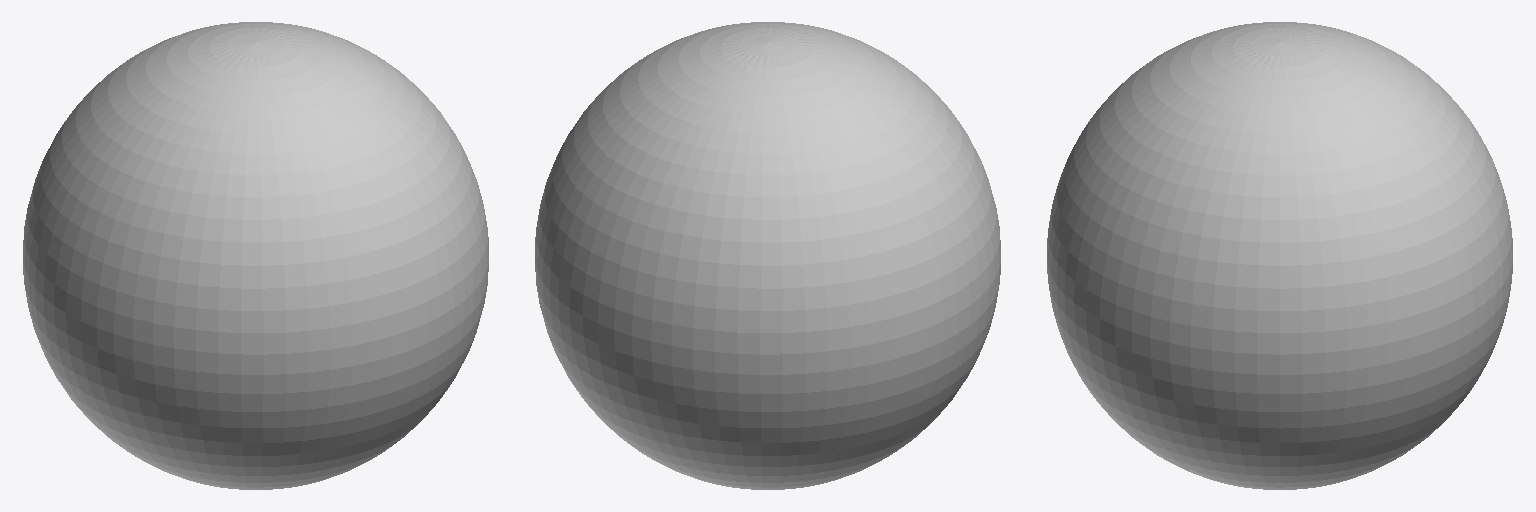
File: Bee.obj
The picture shows the model from 3 angles: view 1: azimuth 30°, elevation 25°; view 2: azimuth 150°, elevation 25°; view 3: azimuth 270°, elevation 25°; orthographic projection.
Visible parts, largest first — view 1: Sphere; view 2: Sphere; view 3: Sphere.
Boxes of the visible parts, <box> form: Sphere: <box>23,22,488,489</box>; Sphere: <box>535,22,1000,489</box>; Sphere: <box>1047,22,1512,489</box>.
Bounding box in the file's own units: 1.98 × 2 × 1.98.